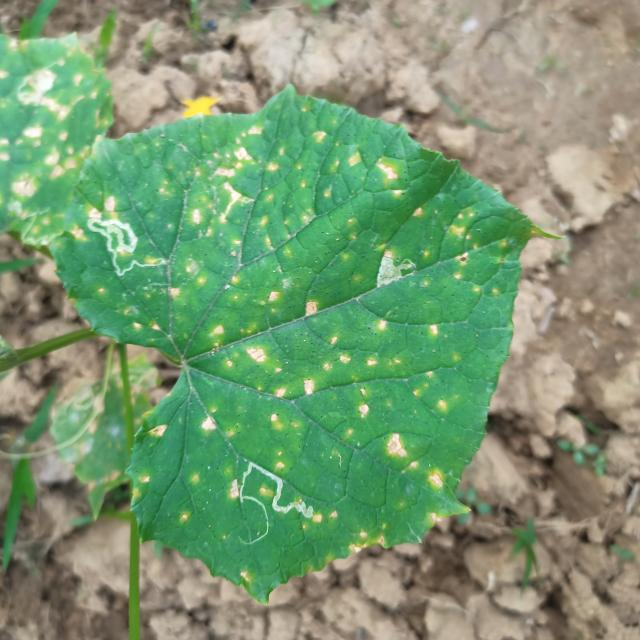disease_cucumber: (103, 122, 488, 540), (0, 44, 102, 198)
